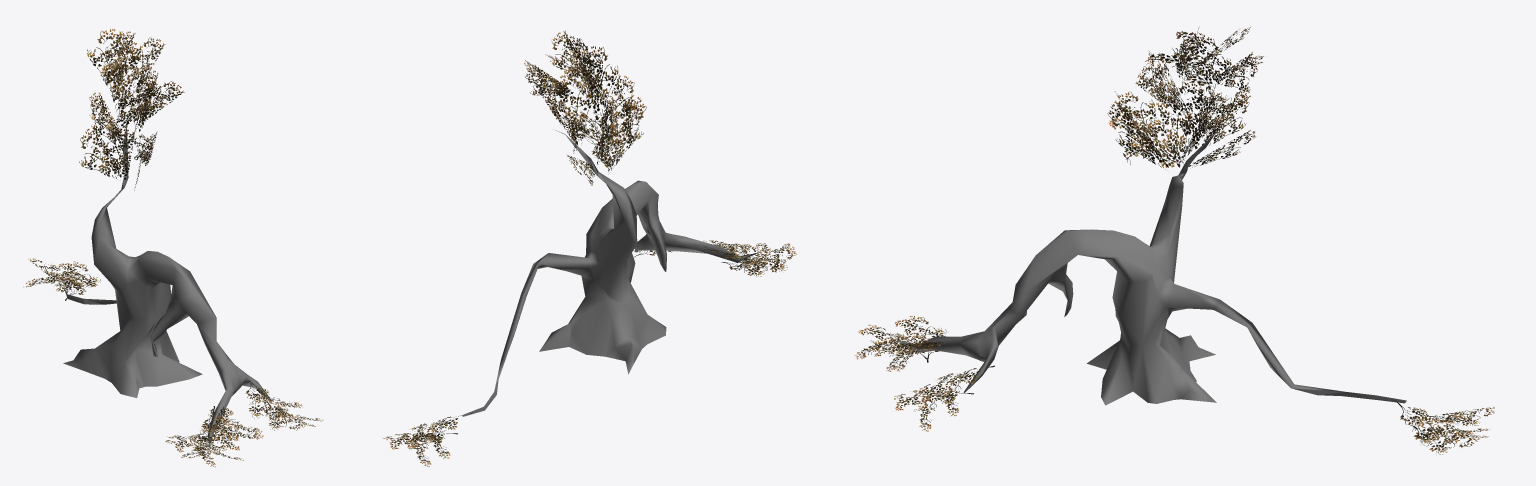
Rendered from lunnstree_lod2.fbx.
3 renders of one model, left to right at view 1: azimuth 30°, elevation 25°; view 2: azimuth 150°, elevation 25°; view 3: azimuth 270°, elevation 25°, orthographic. The views are drawn at different scales.
Visible parts, largest first — view 1: Default_Layer; view 2: Default_Layer; view 3: Default_Layer.
Part boxes in pixels (bbox=[...]): Default_Layer: bbox=[23, 29, 323, 467]; Default_Layer: bbox=[383, 30, 796, 467]; Default_Layer: bbox=[854, 26, 1494, 454].
Bounding box in the file's own units: 733 × 1236 × 1862.
